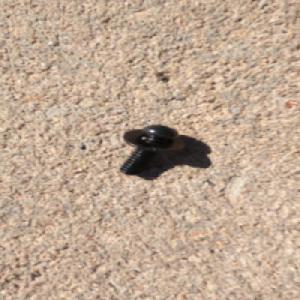BoltWasher: (115, 123, 186, 176)
